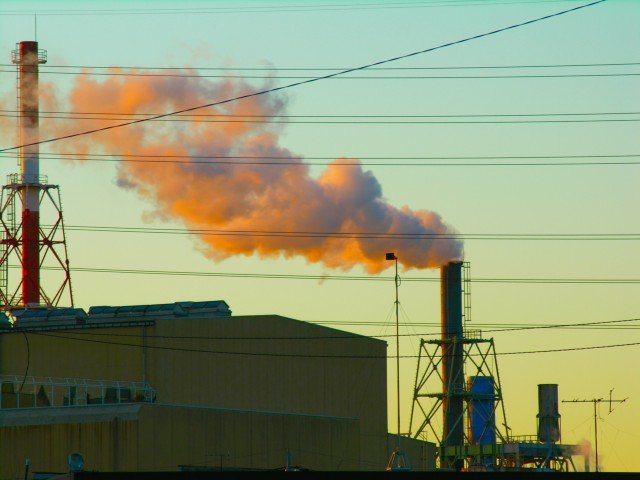dust: (94, 85, 493, 282)
